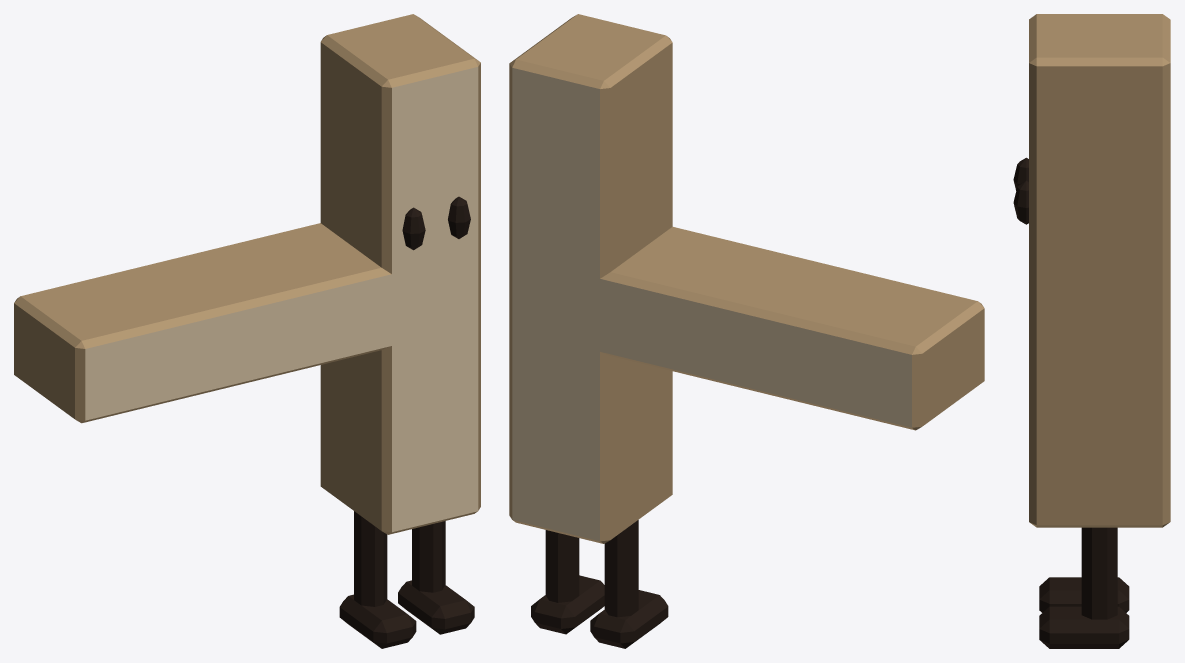
3 views of the same model, side by side, from view 1: azimuth 30°, elevation 25°; view 2: azimuth 150°, elevation 25°; view 3: azimuth 270°, elevation 25° (orthographic). The views are drawn at different scales.
Parts seen in each view (by area): view 1: Glyph, Leg_L, Leg_R, Eye_L, Eye_R; view 2: Glyph, Leg_L, Leg_R; view 3: Glyph, Leg_R, Leg_L, Eye_R, Eye_L.
Part boxes in pixels (<box>): Glyph: <box>14,14,480,534</box>; Leg_L: <box>339,511,416,648</box>; Leg_R: <box>398,521,474,634</box>; Eye_L: <box>402,207,425,250</box>; Eye_R: <box>448,196,470,238</box>; Glyph: <box>509,14,984,543</box>; Leg_L: <box>590,520,668,648</box>; Leg_R: <box>531,530,604,634</box>; Glyph: <box>1029,14,1170,527</box>; Leg_R: <box>1039,527,1129,648</box>; Leg_L: <box>1039,577,1129,612</box>; Eye_R: <box>1013,180,1028,224</box>; Eye_L: <box>1013,157,1028,190</box>.
Bounding box in the file's own units: 0.376 × 0.508 × 0.122.
